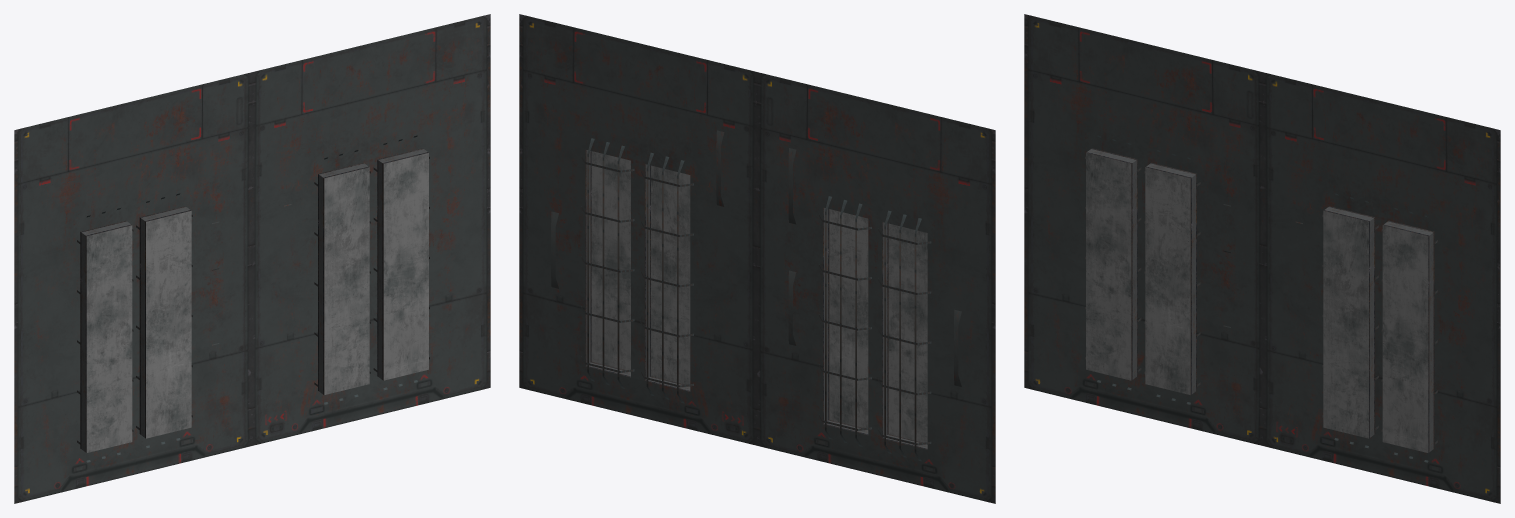
Rendered from ARC0910110.fbx.
The picture shows the model from 3 angles, left to right: view 1: azimuth 30°, elevation 25°; view 2: azimuth 150°, elevation 25°; view 3: azimuth 330°, elevation 25°; orthographic projection.
Visible parts, largest first — view 1: smARC0910110; view 2: smARC0910110; view 3: smARC0910110.
Boxes of the visible parts, bbox=[...] form: smARC0910110: bbox=[14, 14, 490, 503]; smARC0910110: bbox=[519, 14, 995, 503]; smARC0910110: bbox=[1024, 14, 1500, 503].
Bounding box in the file's own units: 400 × 300 × 17.15.
Materials: 1 (1 with a texture image).
